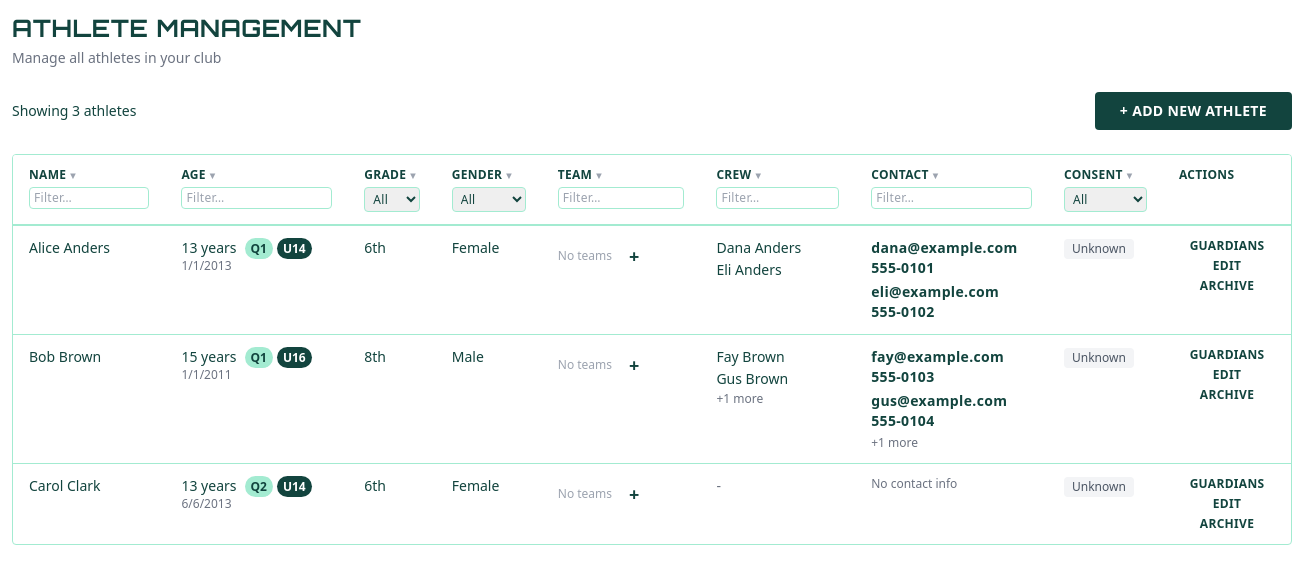
Test case: AthleteManagement crew column › finds a crew member who is hidden behind "+1 more"
Expected: the link "Bob Brown" is shown, [29,347,101,366]
Type "hana" into the 4th field with placeholder "Filter…" at {"x": 778, "y": 198}, box [716,187,839,209]
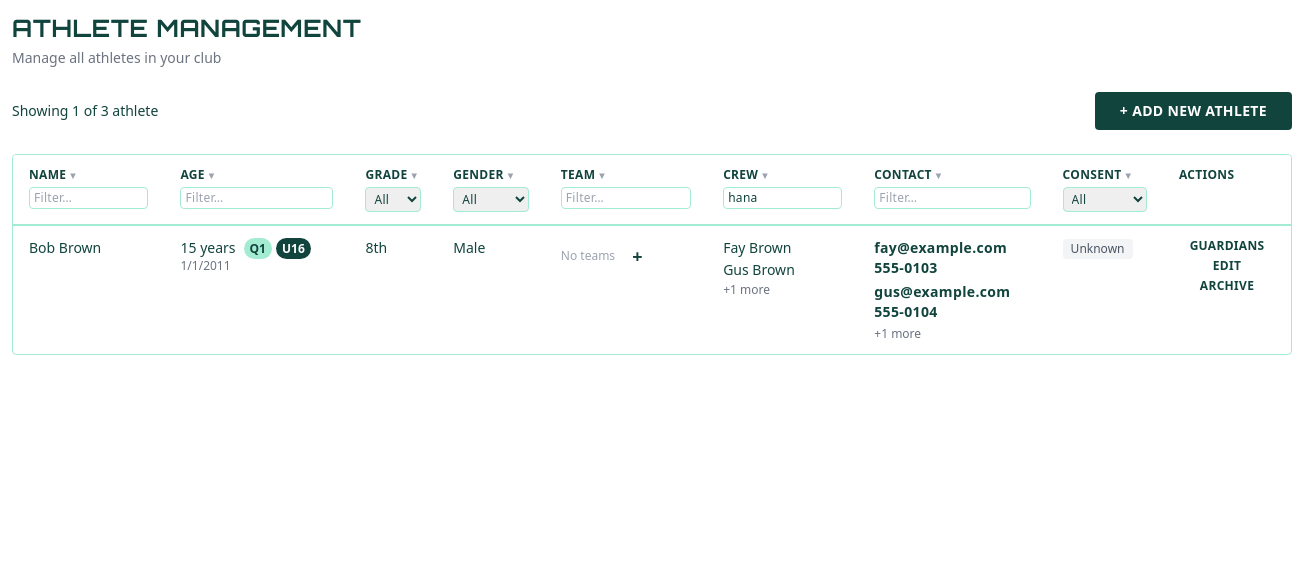
Expected: the link "Bob Brown" is shown, [29,238,101,257]
Result: the link "Alice Anders" is gone
